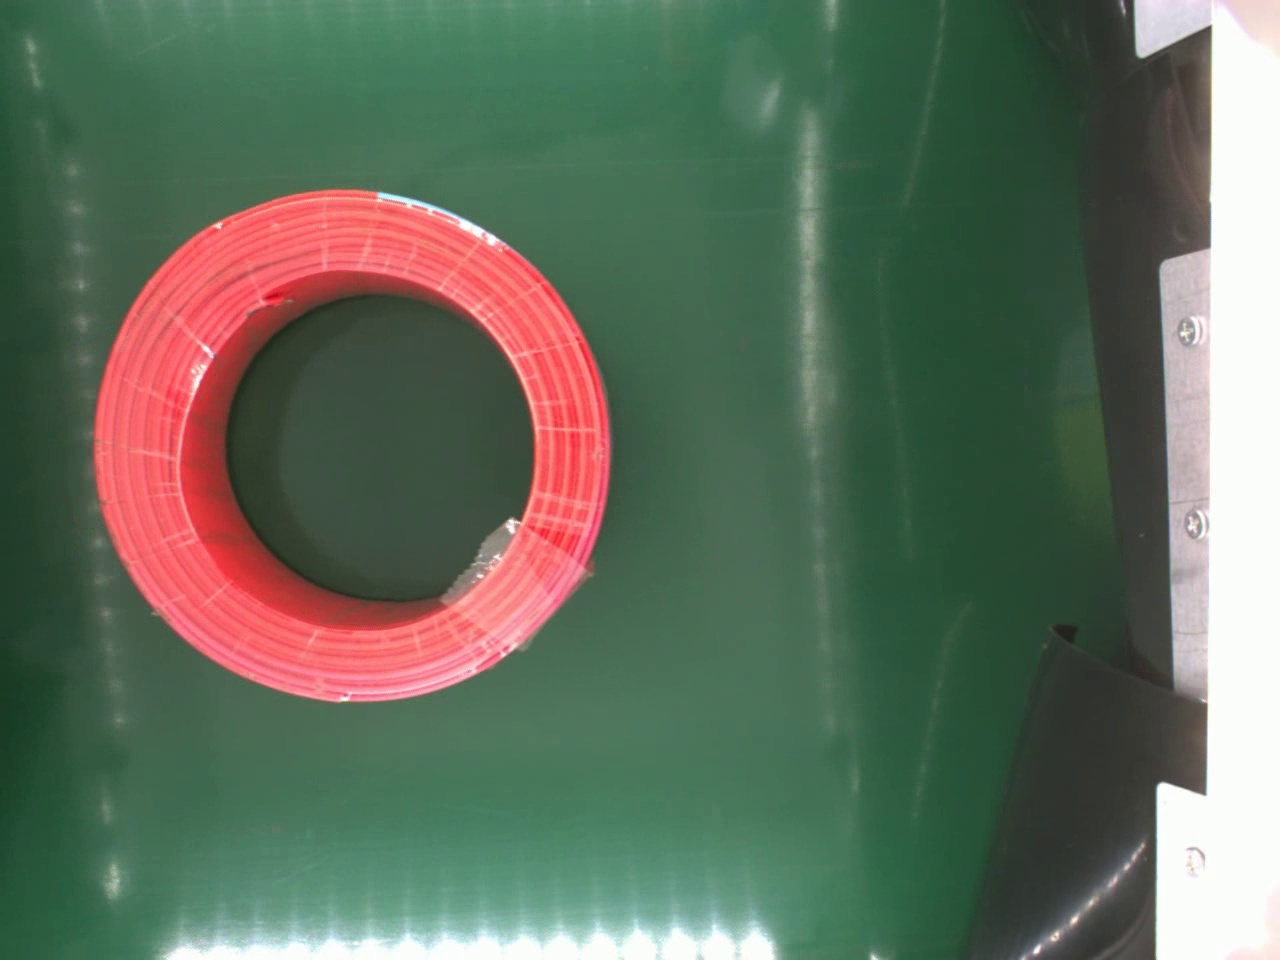red: (90, 184, 608, 708)
